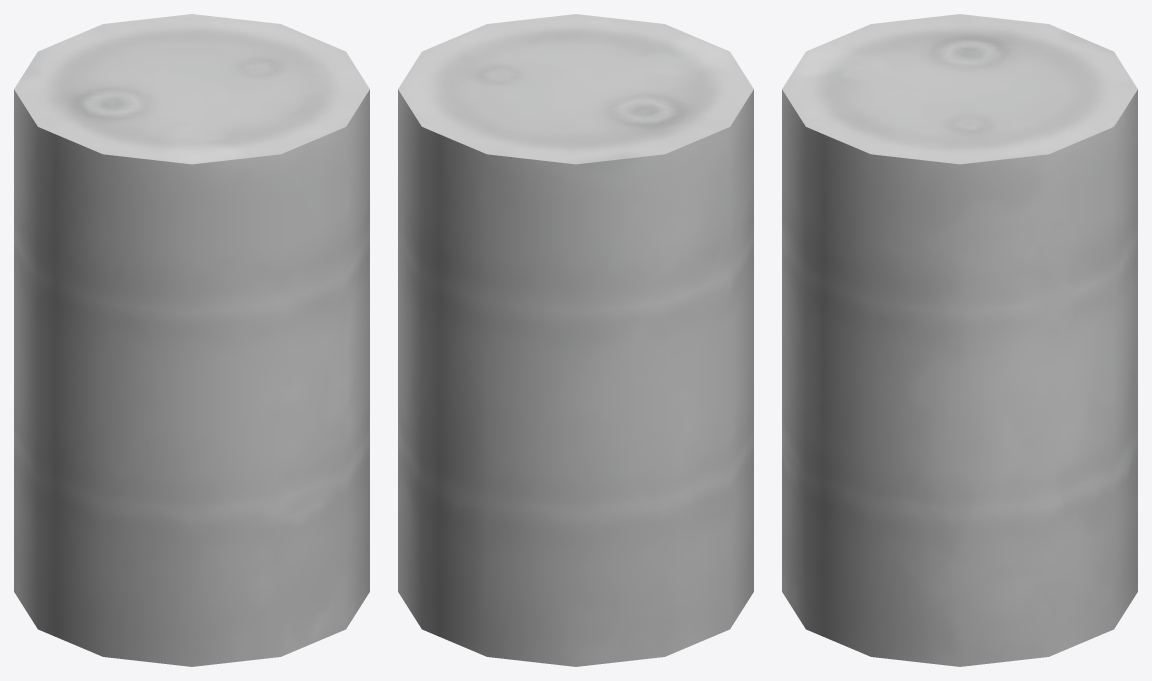
File: Pfb_WaterButts.fbx
3 views of the same model, side by side, from view 1: azimuth 30°, elevation 25°; view 2: azimuth 150°, elevation 25°; view 3: azimuth 270°, elevation 25° (orthographic).
Visible parts, largest first — view 1: Mat_WaterTankButt_01_W; view 2: Mat_WaterTankButt_01_W; view 3: Mat_WaterTankButt_01_W.
Part boxes in pixels (x1,y1,x2,y2): Mat_WaterTankButt_01_W: (14, 14, 369, 666); Mat_WaterTankButt_01_W: (398, 14, 753, 666); Mat_WaterTankButt_01_W: (782, 14, 1137, 666).
Size of the model in its own units: 0.7926 by 1.23 by 0.7926.
1 material, 1 textured.
